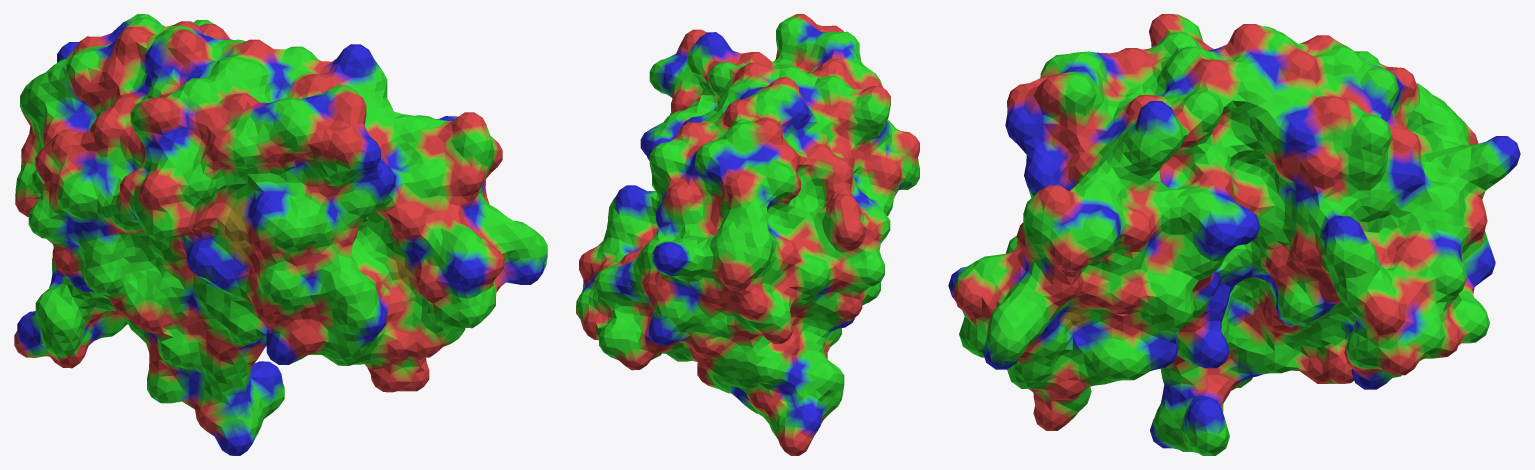
3 views of the same model, side by side, from view 1: azimuth 30°, elevation 25°; view 2: azimuth 150°, elevation 25°; view 3: azimuth 270°, elevation 25° (orthographic). The views are drawn at different scales.
Visible parts, largest first — view 1: Shape_IndexedFaceSet; view 2: Shape_IndexedFaceSet; view 3: Shape_IndexedFaceSet.
Part boxes in pixels (left/top/right/bottom): Shape_IndexedFaceSet: left=14, top=14, right=547, bottom=455; Shape_IndexedFaceSet: left=576, top=14, right=919, bottom=455; Shape_IndexedFaceSet: left=948, top=14, right=1520, bottom=455.
Bounding box in the file's own units: 3758 × 3769 × 4691.
